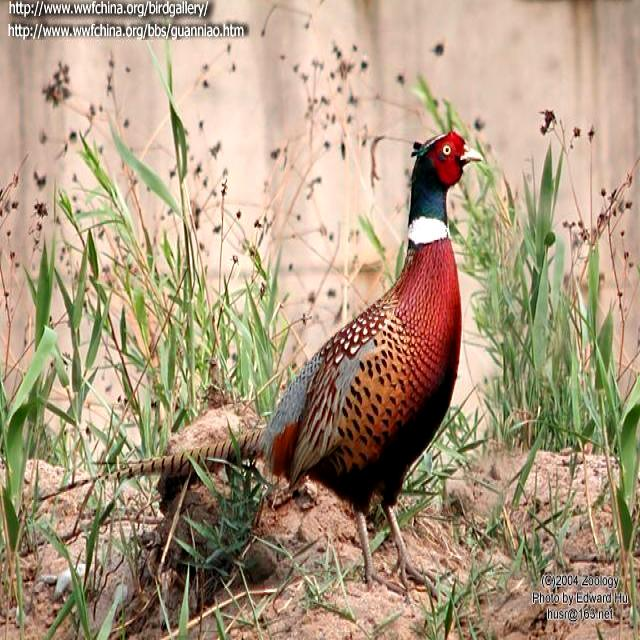Phasianus Colchicus: (35, 430, 265, 502)
